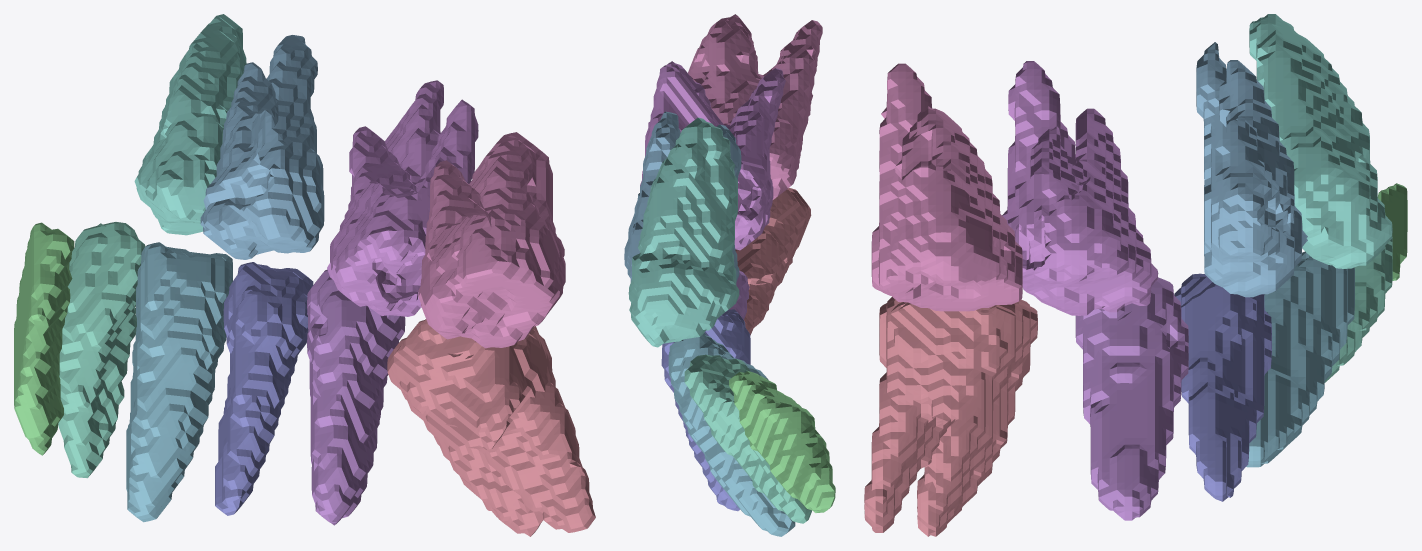
Rendered from STS24_Train_Labeled_0003.glb.
The picture shows the model from 3 angles, left to right: view 1: azimuth 30°, elevation 25°; view 2: azimuth 150°, elevation 25°; view 3: azimuth 270°, elevation 25°; orthographic projection. The views are drawn at different scales.
Parts seen in each view (by area): view 1: teeth__37, teeth__27, teeth__33, teeth__24, teeth__26, teeth__35, teeth__32, teeth__34, teeth__23, teeth__31; view 2: teeth__23, teeth__27, teeth__26, teeth__31, teeth__33, teeth__32, teeth__37, teeth__24, teeth__34, teeth__35; view 3: teeth__37, teeth__27, teeth__26, teeth__23, teeth__24, teeth__35, teeth__34, teeth__33, teeth__32, teeth__31.
Part boxes in pixels (<box>): teeth__37: <box>387,319,595,536</box>; teeth__27: <box>418,132,565,348</box>; teeth__33: <box>126,242,232,522</box>; teeth__24: <box>200,35,324,259</box>; teeth__26: <box>327,80,478,316</box>; teeth__35: <box>307,269,405,525</box>; teeth__32: <box>58,222,145,478</box>; teeth__34: <box>215,262,313,515</box>; teeth__23: <box>134,14,246,235</box>; teeth__31: <box>14,222,74,455</box>; teeth__23: <box>628,117,739,347</box>; teeth__27: <box>688,14,822,199</box>; teeth__26: <box>640,61,785,250</box>; teeth__31: <box>729,371,835,512</box>; teeth__33: <box>668,333,795,536</box>; teeth__32: <box>684,354,811,523</box>; teeth__37: <box>735,188,811,335</box>; teeth__24: <box>624,111,741,282</box>; teeth__34: <box>661,309,750,511</box>; teeth__35: <box>728,270,749,319</box>; teeth__37: <box>864,297,1037,536</box>; teeth__27: <box>871,63,1022,311</box>; teeth__26: <box>1002,61,1158,315</box>; teeth__23: <box>1249,14,1392,268</box>; teeth__24: <box>1196,42,1307,297</box>; teeth__35: <box>1075,277,1188,520</box>; teeth__34: <box>1174,273,1271,501</box>; teeth__33: <box>1246,251,1354,467</box>; teeth__32: <box>1325,237,1392,382</box>; teeth__31: <box>1377,183,1407,280</box>.
Size of the model in its own units: 33.57 by 43.15 by 43.2.
